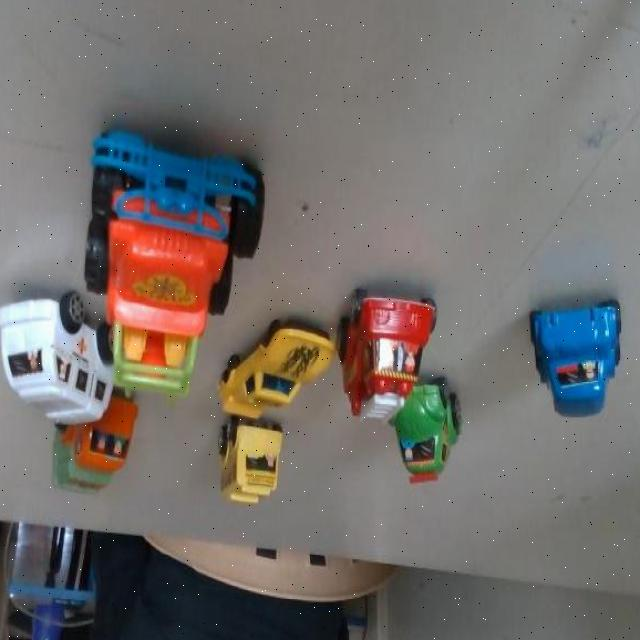car: (89, 112, 270, 338), (215, 306, 335, 424), (526, 288, 629, 424), (343, 279, 438, 420), (0, 298, 102, 413), (53, 397, 139, 499), (391, 380, 464, 480), (225, 422, 290, 515)
